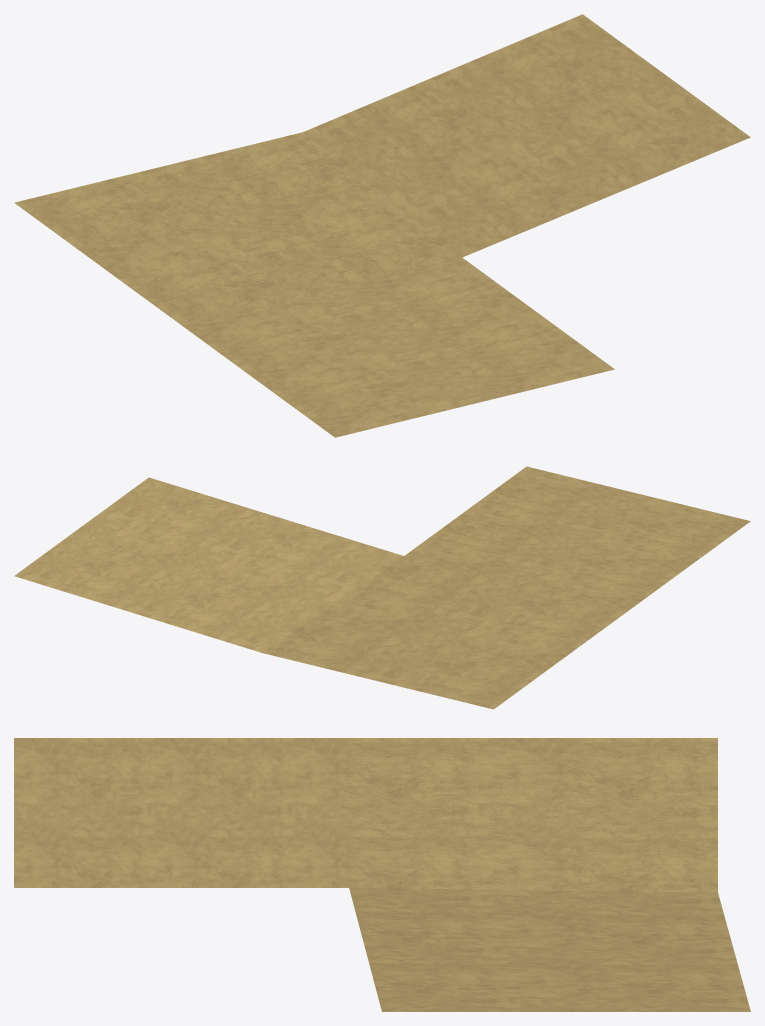
Rendered from side_terain_02.fbx.
3 renders of one model, top to bottom at view 1: azimuth 30°, elevation 25°; view 2: azimuth 150°, elevation 25°; view 3: azimuth 270°, elevation 25°, orthographic. The views are drawn at different scales.
Visible parts, largest first — view 1: outer_floor_02; view 2: outer_floor_02; view 3: outer_floor_02.
Part boxes in pixels (x1,y1,x2,y2): outer_floor_02: (14,14,750,437); outer_floor_02: (14,466,750,709); outer_floor_02: (14,738,750,1011).
Size of the model in its own units: 990 by 56.85 by 988.
